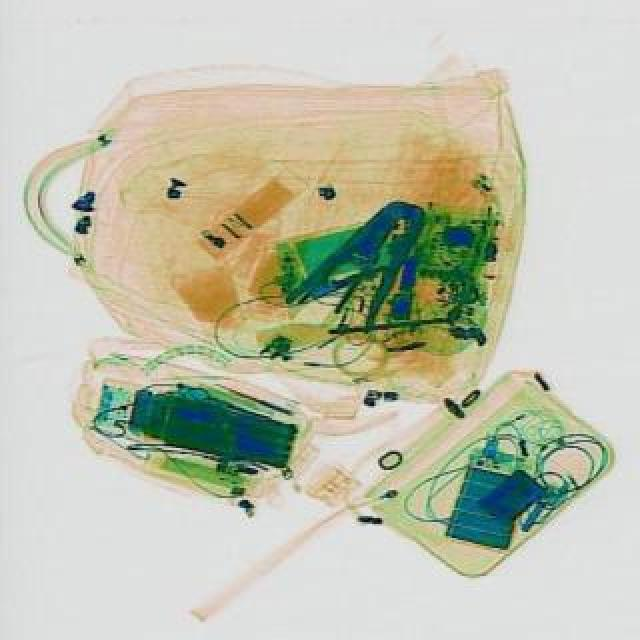wrench: (278, 178, 450, 350)
